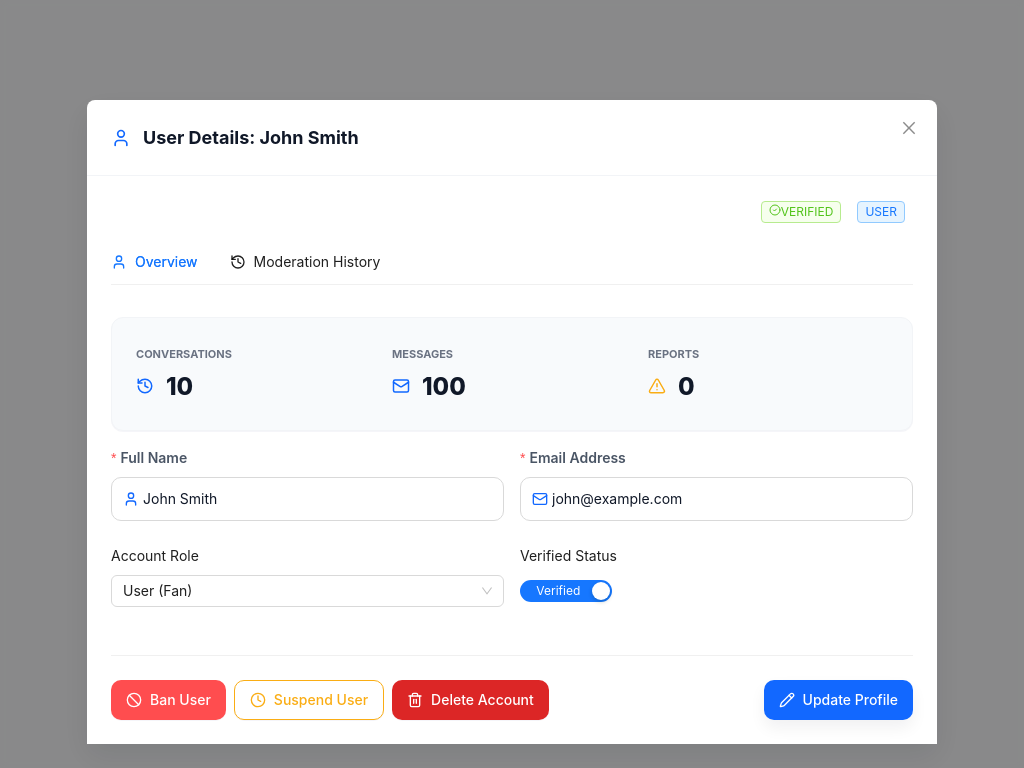
it: UserDetailModal › renders "No reports against this user" in history tab
Click the tab "Moderation History": [305, 262] box [230,251,380,273]
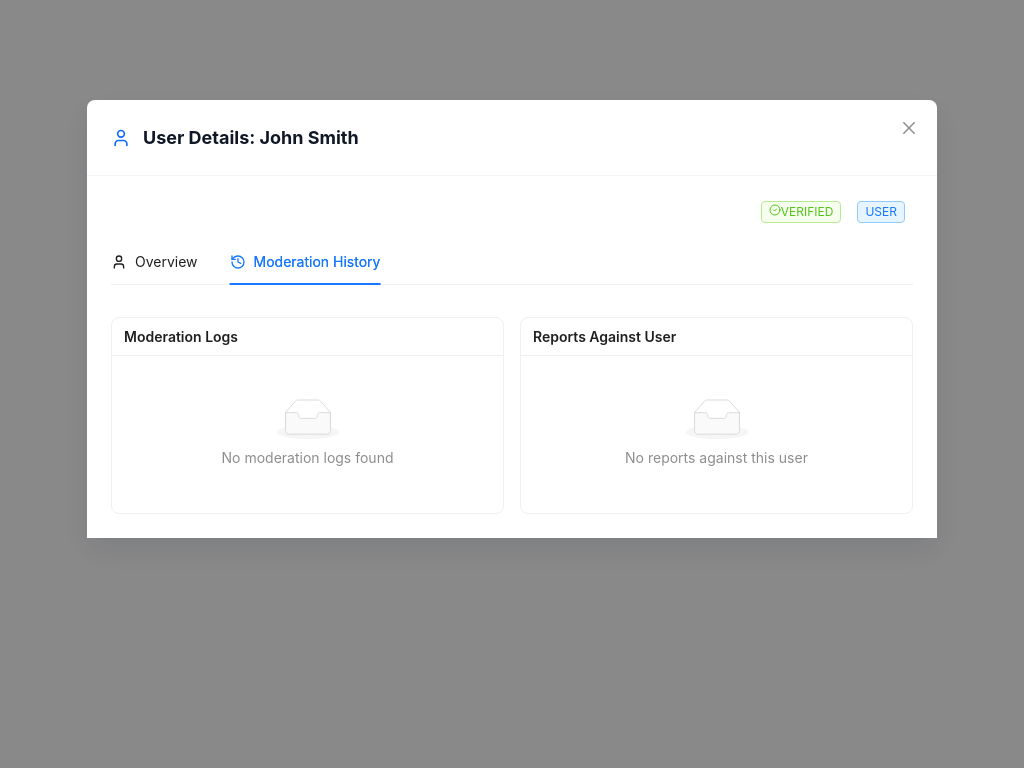
Now the text "No reports against this user" is shown, box [625,449,808,466]
